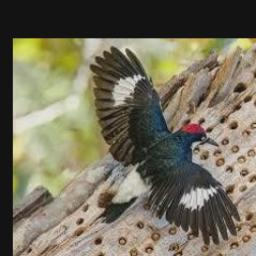Woodpecker: (90, 46, 241, 245)
